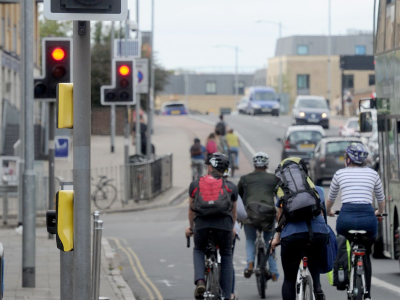trafficlight_red: (46, 44, 69, 86), (115, 62, 133, 101)
